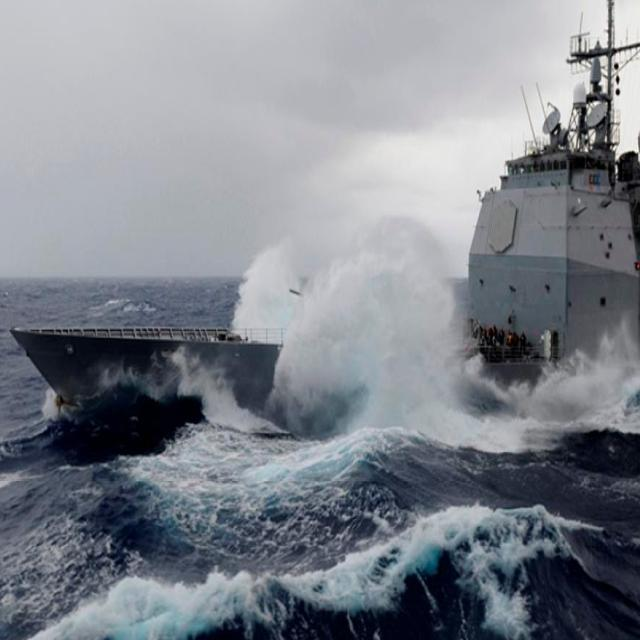navalvessels: (0, 10, 640, 471)
